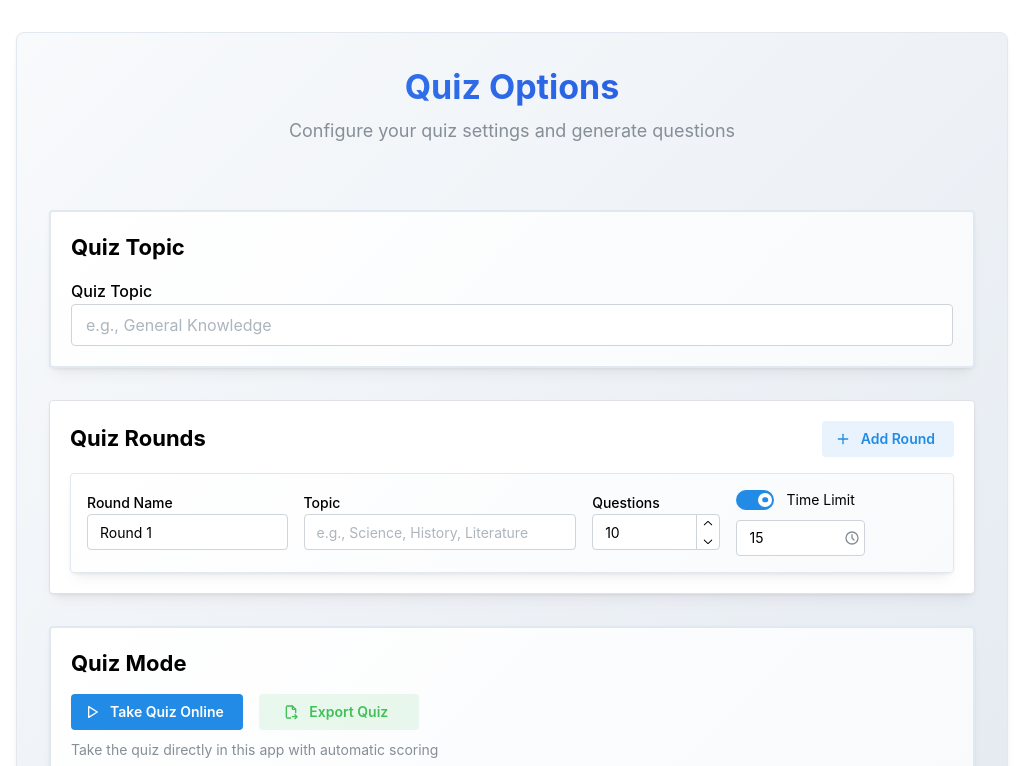
Test: QuizOptions component › allows adding and removing rounds
// Add a new round
Click the button "Add Round" at [888, 439], box [822, 421, 954, 457]
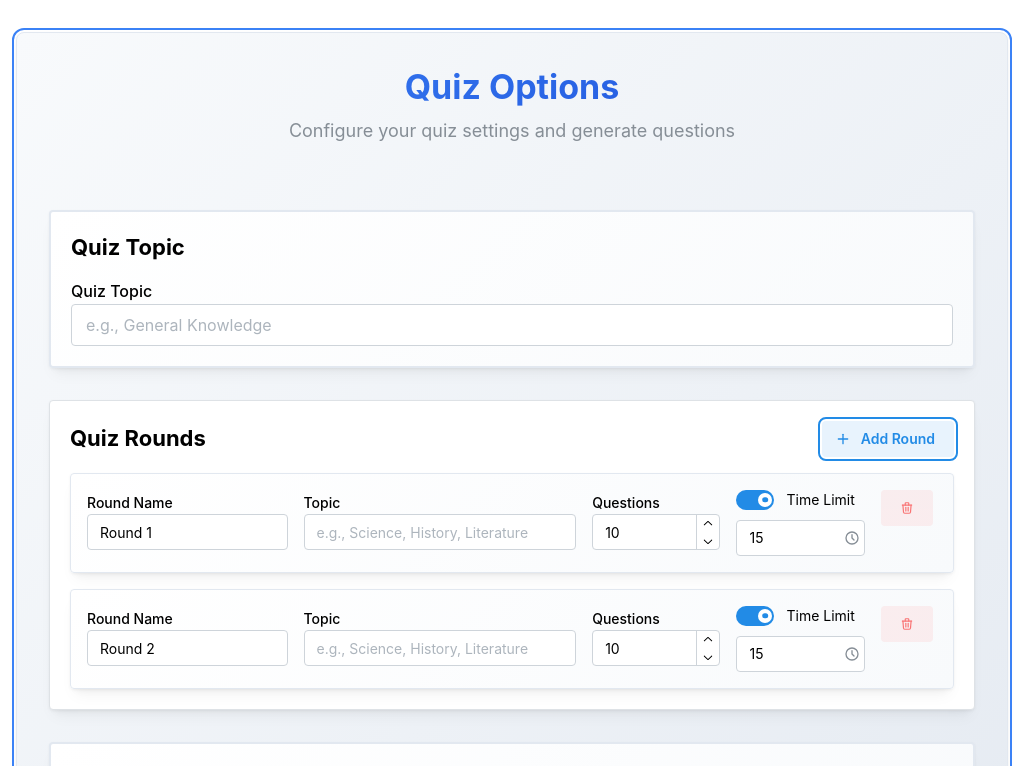
// Remove the second round
Click the 3rd button at [907, 508], box [881, 490, 933, 526]
(page scrolled)
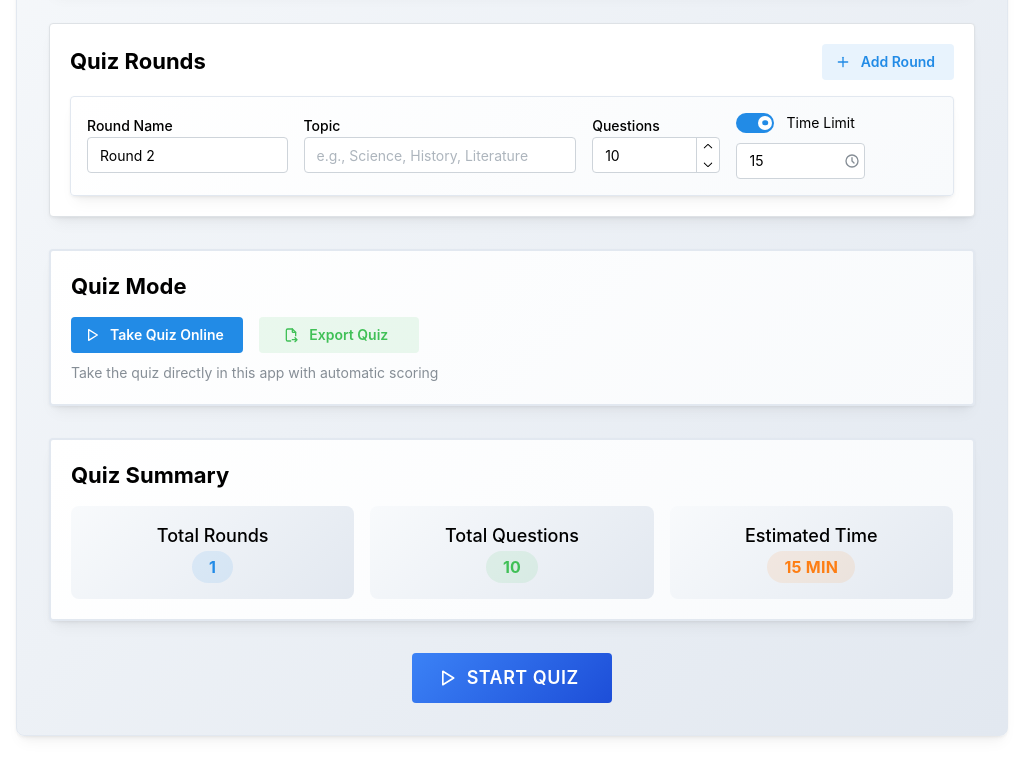
Expected: the text "1" is shown, [209, 552, 216, 582]
